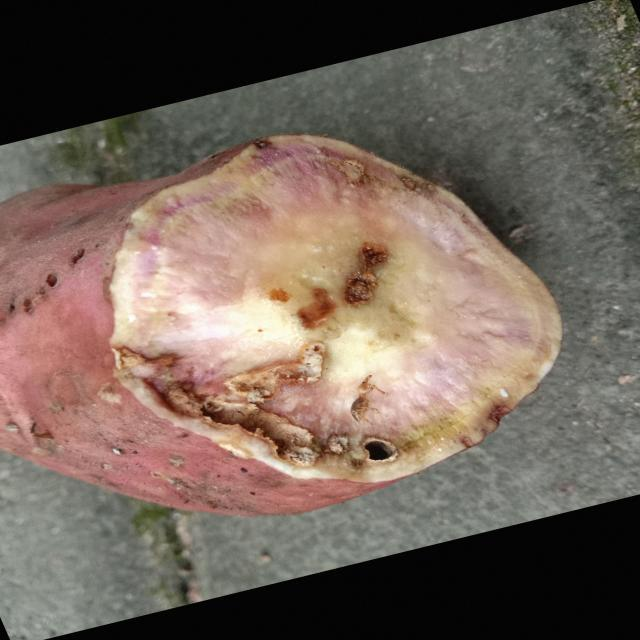Sick Sweet Potato_Tuber Rot: (110, 135, 562, 481)
